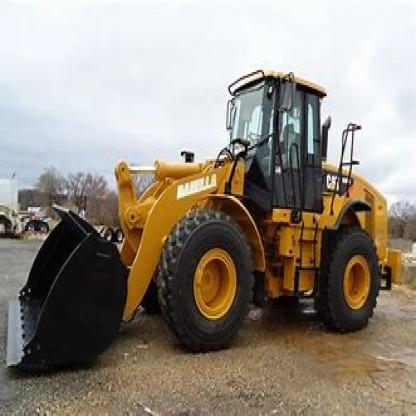bull_dozer/loader/grader: (0, 57, 413, 384)
